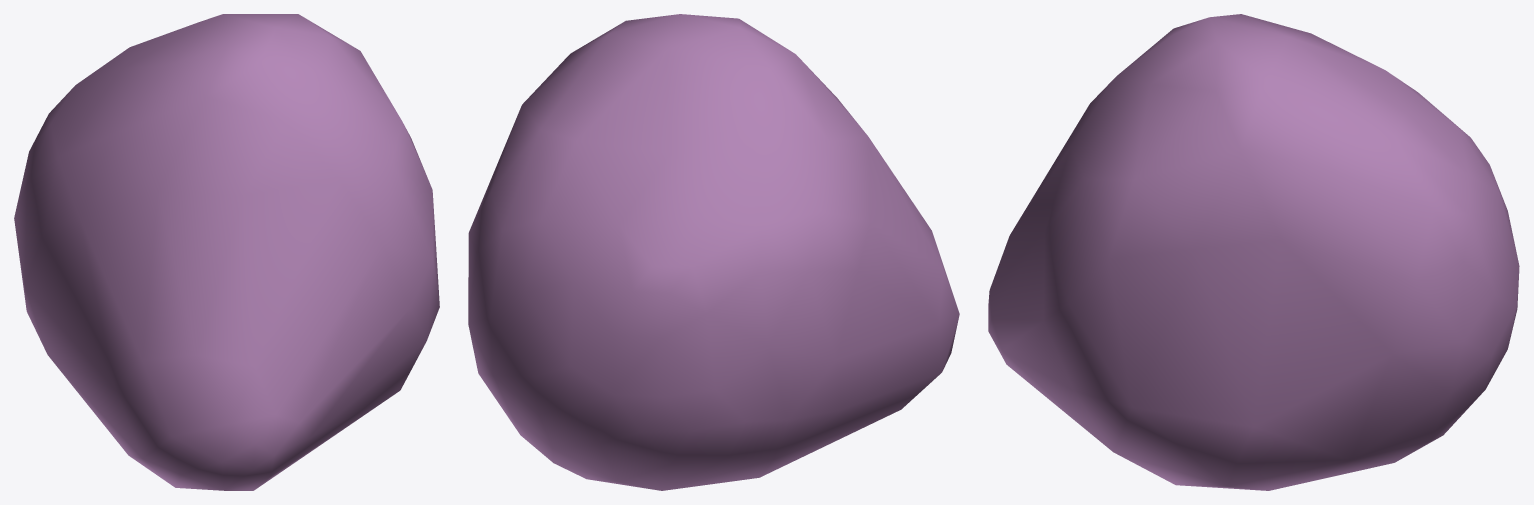
The picture shows the model from 3 angles, left to right: view 1: azimuth 30°, elevation 25°; view 2: azimuth 150°, elevation 25°; view 3: azimuth 270°, elevation 25°; orthographic projection. The views are drawn at different scales.
Visible parts, largest first — view 1: 右侧乳头体; view 2: 右侧乳头体; view 3: 右侧乳头体.
Boxes of the visible parts, <box> form: 右侧乳头体: <box>14,14,439,490</box>; 右侧乳头体: <box>468,14,959,490</box>; 右侧乳头体: <box>988,14,1519,490</box>.
Size of the model in its own units: 0.00565 by 0.00652 by 0.00718.
